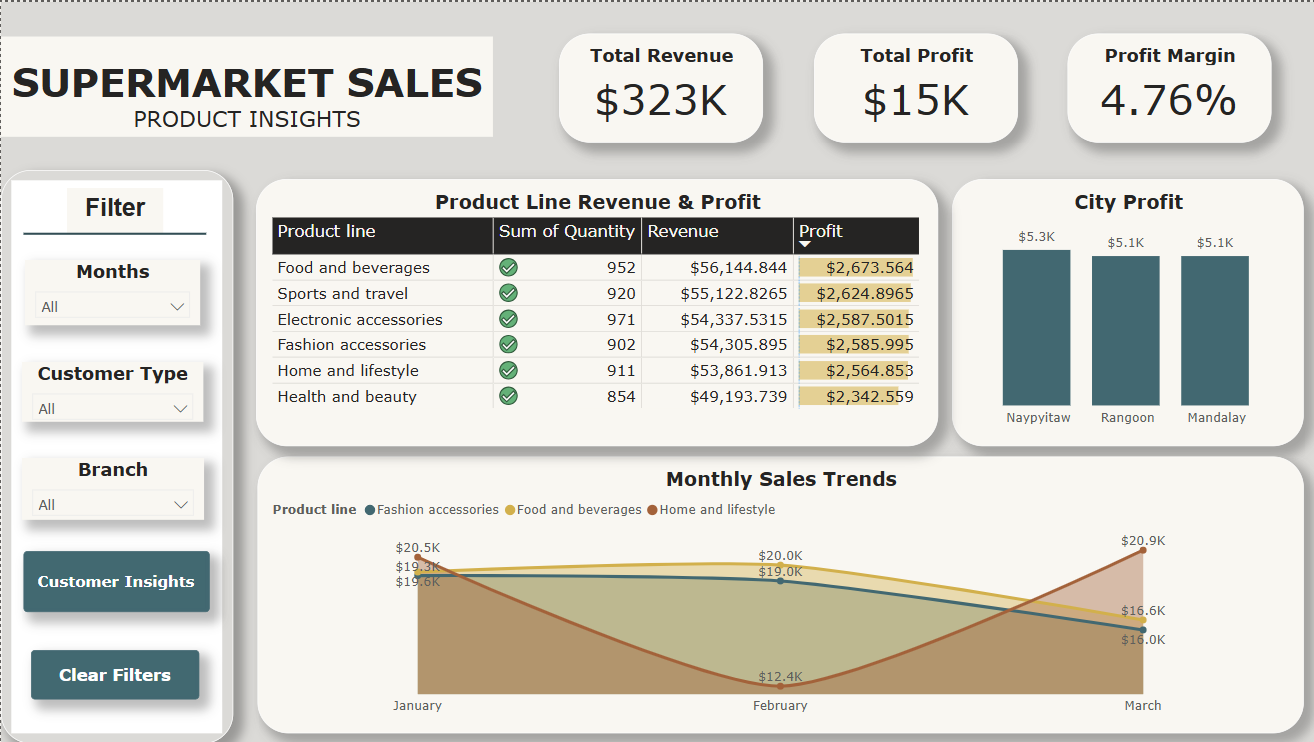

The page's visual inventory and layout, read from the dashboard file:
{"tool":"powerbi","page":{"name":"Product Insights","canvas":[1280,720],"ordinal":0},"visuals":[{"type":"shape","box":[0,163.3,225,556.7],"z":0},{"type":"card","title":"Total Revenue","fields":{"Values":["Sum(supermarket_sales - Sheet1.Total)"]},"box":[541.5,30.6,198,106.3],"z":1000},{"type":"card","title":"Total Profit","fields":{"Values":["Sum(supermarket_sales - Sheet1.gross income)"]},"box":[788.9,30.6,198,106.3],"z":2000},{"type":"columnChart","title":"City Profit","fields":{"Category":["supermarket_sales - Sheet1.City"],"Y":["Sum(supermarket.gross income)"]},"box":[923,171.6,341.7,259.1],"z":3000},{"type":"textbox","box":[64,180.5,93.2,43.7],"z":4000},{"type":"shape","box":[21.8,198,177.6,53.9],"z":5000},{"type":"slicer","title":"Customer Type","fields":{"Values":["supermarket_sales - Sheet1.Customer type"]},"box":[20,350,176,58],"z":6000},{"type":"lineChart","title":"Monthly Sales Trends","fields":{"Series":["supermarket.Product line"],"Category":["supermarket.Date.Variation.Date Hierarchy.Month"],"Y":["Sum(supermarket.Total)"]},"box":[248.3,441.4,1015.5,269],"z":7000},{"type":"tableEx","title":"Product Line Revenue & Profit","fields":{"Values":["supermarket_sales - Sheet1.Product line","Sum(supermarket.Quantity)","Sum(supermarket.Total)","Sum(supermarket.gross income)"]},"box":[247.7,171.6,662.3,259.1],"z":8000},{"type":"actionButton","title":"cccccccccc","box":[21.8,533.3,180.3,59.1],"z":9000},{"type":"slicer","title":"Months","fields":{"Values":["supermarket.Date.Variation.Date Hierarchy.Month"]},"box":[22.7,251,170,63.1],"z":10000},{"type":"slicer","title":"Branch","fields":{"Values":["supermarket_sales - Sheet1.Branch"]},"box":[21,442,176.5,59.9],"z":11000},{"type":"card","title":"Profit Margin","fields":{"Values":["supermarket.111Average_Gross_Mer_Percentage"]},"box":[1034.9,30.6,198,106.3],"z":12000},{"type":"textbox","box":[0,33.5,477.4,97.5],"z":13000},{"type":"actionButton","box":[29.5,628.1,163.2,48.2],"z":14000}]}

Visuals, with their boxes in screenshot pixels (x1, y1, x2, y2), scaled from the page's 1280x720 canvas onto the 1314x742 screenshot:
shape: locate(0, 168, 231, 741)
"Total Revenue" card: locate(556, 32, 759, 141)
"Total Profit" card: locate(810, 32, 1013, 141)
"City Profit" columnChart: locate(948, 177, 1298, 444)
textbox: locate(66, 186, 161, 231)
shape: locate(22, 204, 205, 260)
"Customer Type" slicer: locate(21, 361, 201, 420)
"Monthly Sales Trends" lineChart: locate(255, 455, 1297, 732)
"Product Line Revenue & Profit" tableEx: locate(254, 177, 934, 444)
"cccccccccc" actionButton: locate(22, 550, 207, 611)
"Months" slicer: locate(23, 259, 198, 324)
"Branch" slicer: locate(22, 456, 203, 517)
"Profit Margin" card: locate(1062, 32, 1266, 141)
textbox: locate(0, 35, 490, 135)
actionButton: locate(30, 647, 198, 697)
